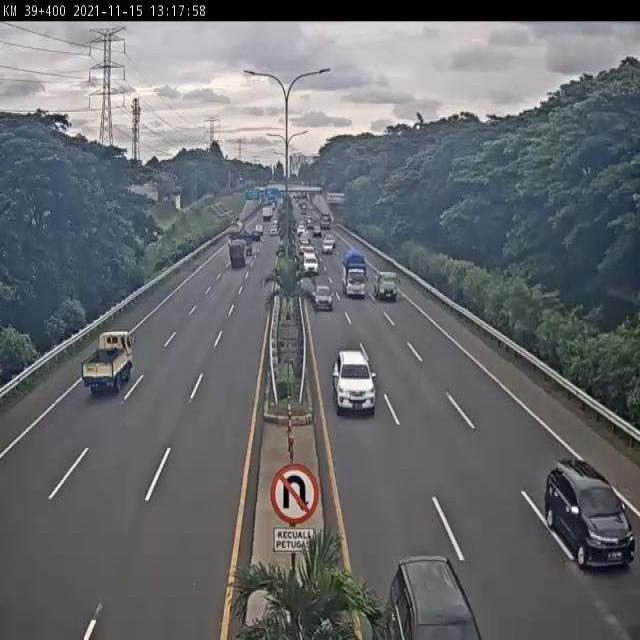car: (543, 456, 636, 569), (330, 345, 378, 416), (312, 283, 334, 312), (302, 252, 321, 276)
truck-m-: (342, 248, 368, 299)
truck-s-: (79, 330, 137, 398), (373, 268, 400, 303)
